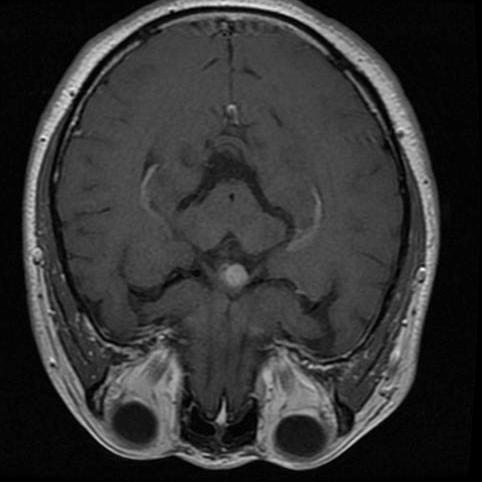Tumour-Pituitary: (226, 264, 250, 287)
